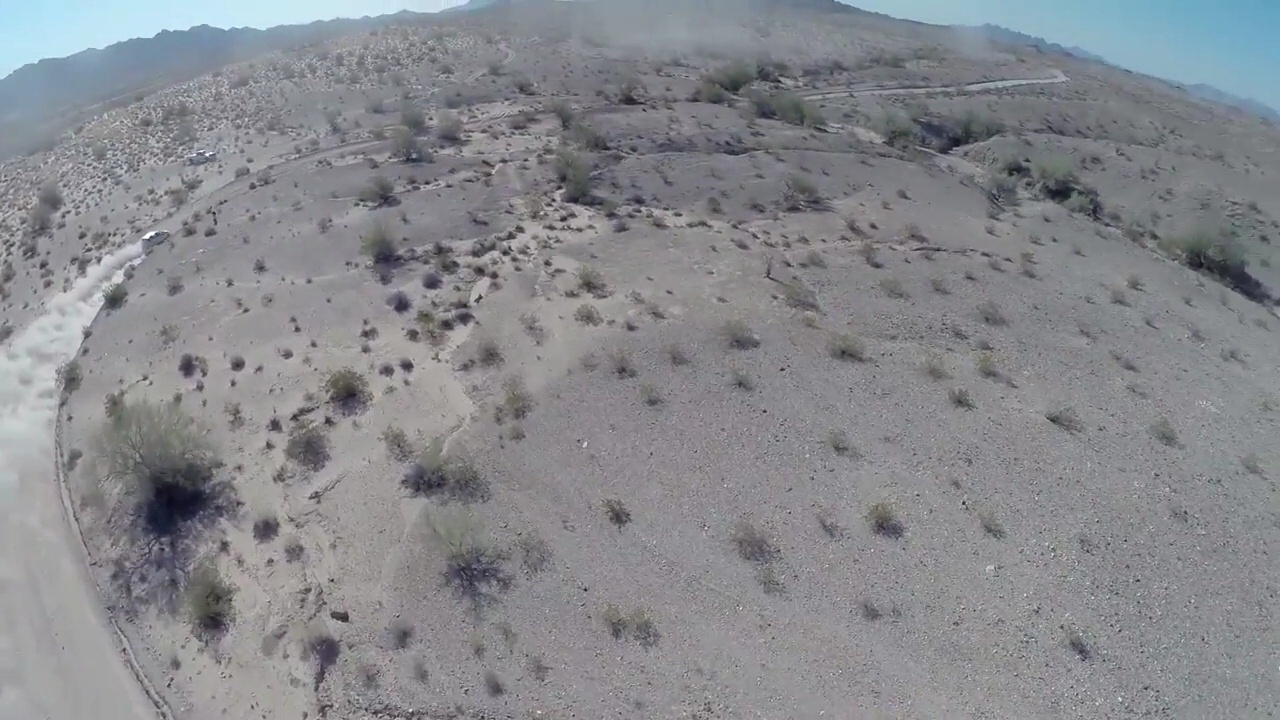araba: (139, 227, 168, 247)
kamyonet: (186, 148, 220, 163)
